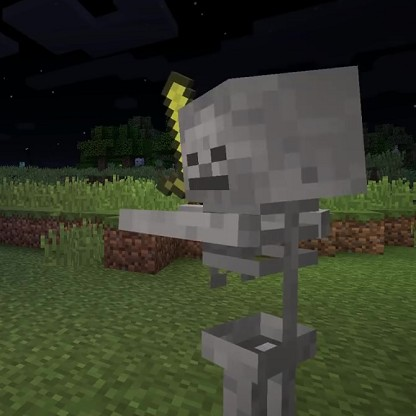skeleton: (151, 66, 369, 408)
